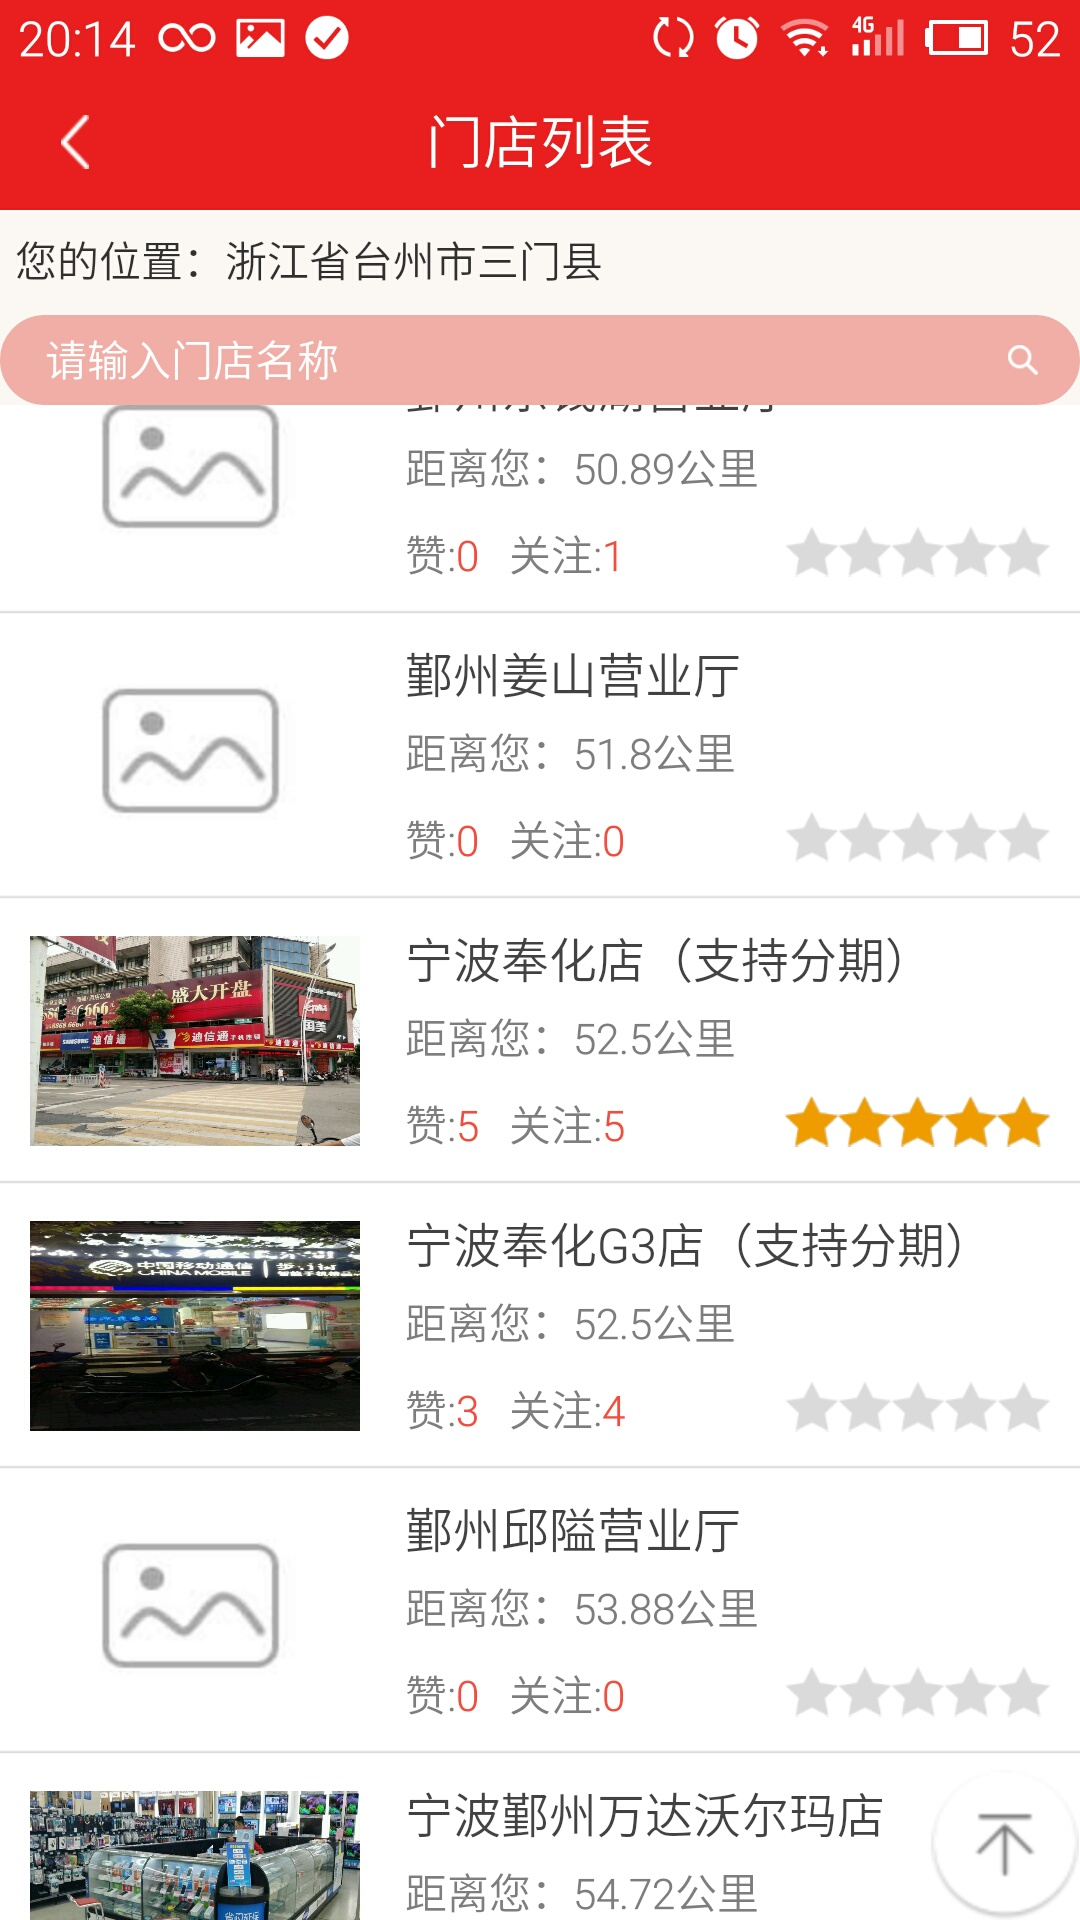imgbutton: (920, 1774, 1080, 1913)
imgview: (15, 920, 378, 1170), (18, 633, 375, 876)
textview: (7, 301, 1069, 419)
